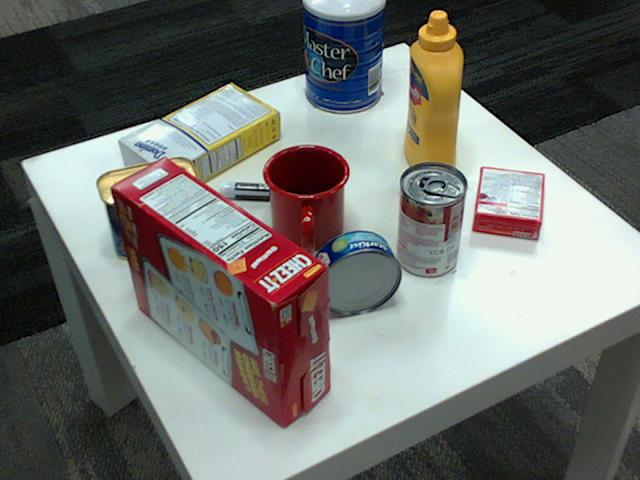cracker_box: (109, 156, 330, 425)
gelatin_box: (474, 166, 545, 238)
large_marker: (217, 184, 323, 201)
master_chef_can: (301, 0, 383, 112)
mug: (263, 141, 351, 250)
mustard_bottle: (404, 11, 462, 179)
potted_meat_can: (96, 156, 203, 261)
sugar_box: (119, 81, 281, 197)
tomato_soup_can: (396, 161, 466, 276)
tuna_fish_can: (312, 230, 402, 313)
